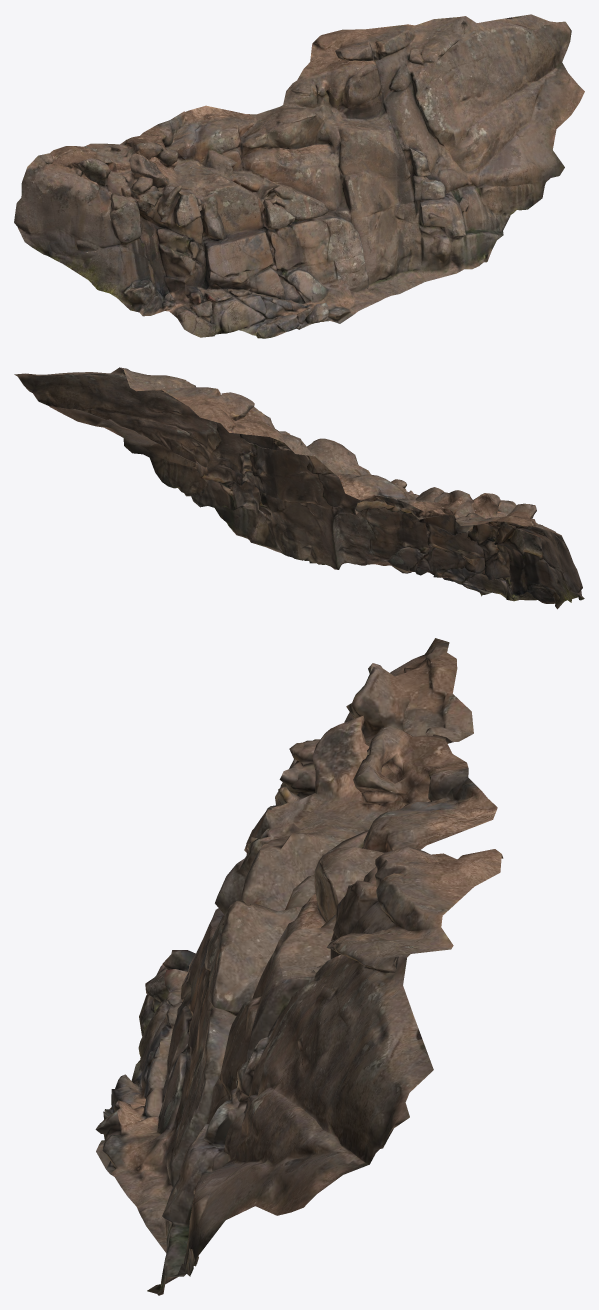
The model's file is cliff2.glb.
3 views of the same model, one above another, from view 1: azimuth 30°, elevation 25°; view 2: azimuth 150°, elevation 25°; view 3: azimuth 270°, elevation 25° (orthographic). The views are drawn at different scales.
Parts seen in each view (by area): view 1: cliff2; view 2: cliff2; view 3: cliff2.
Boxes of the visible parts, bbox=[...] form: cliff2: bbox=[14, 14, 584, 338]; cliff2: bbox=[14, 367, 584, 609]; cliff2: bbox=[95, 638, 503, 1295].
Bounding box in the file's own units: 20.21 × 7.16 × 6.49.
Materials: 1 (1 with a texture image).
